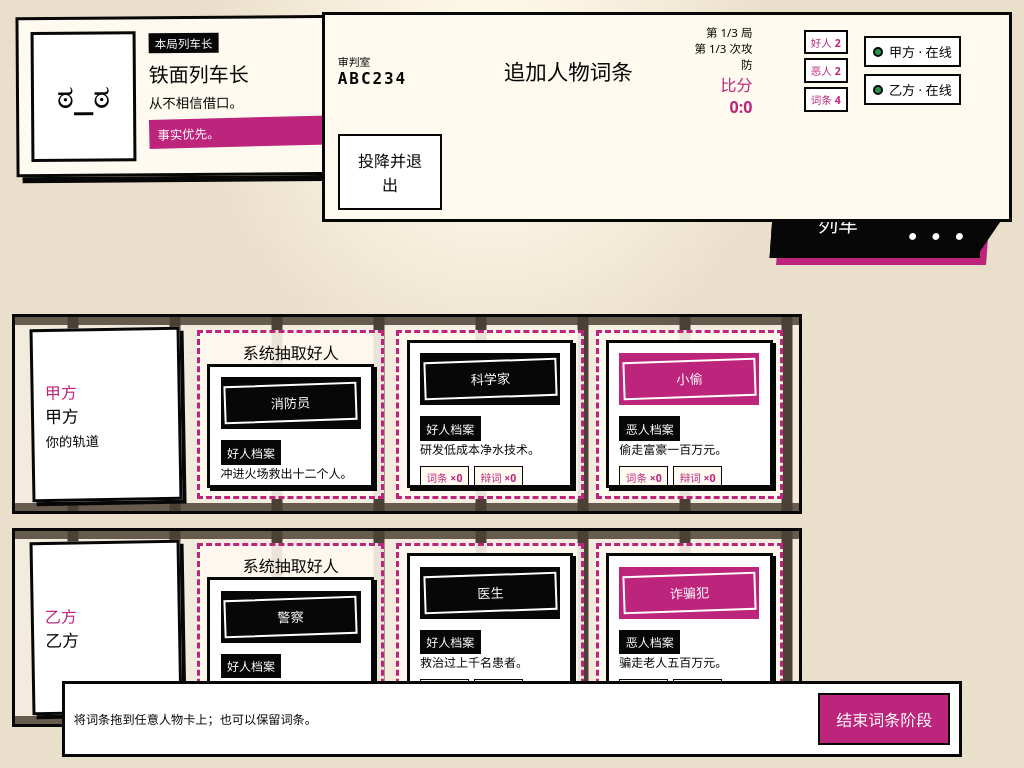
Test case: single-screen game stage › shows explicit empty evidence states in the character dossier
This screenshot has width=1024, height=768.
Click the button with aria-label "查看消防员人物档案": [291, 426] box 207,364 -> 374,488
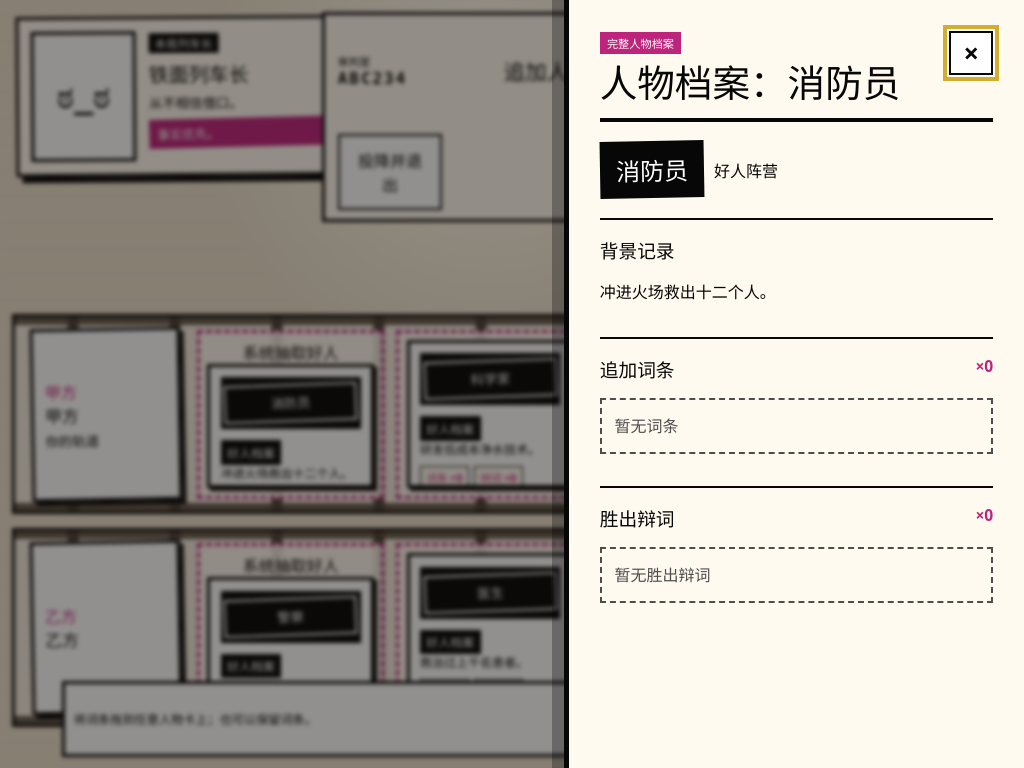
expect the text "暂无词条" is shown: met, box 600,398 -> 993,454
expect the text "暂无胜出辩词" is shown: met, box 600,547 -> 993,603
